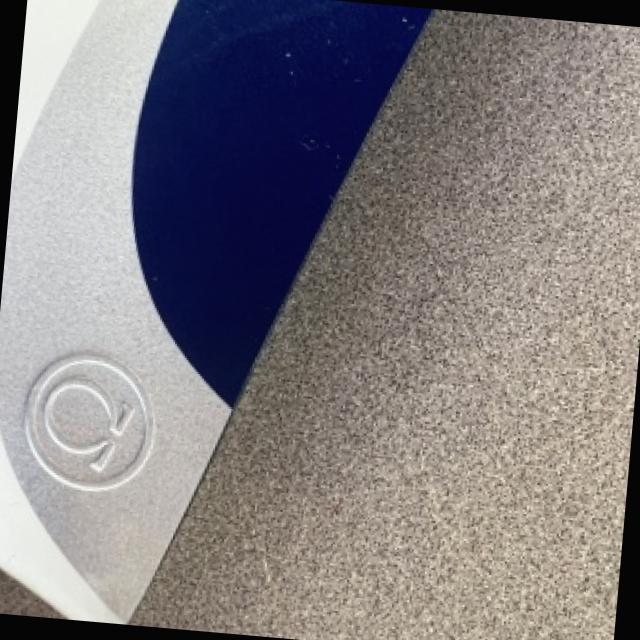healthy: (133, 9, 640, 640), (0, 0, 431, 618), (29, 354, 157, 488)
